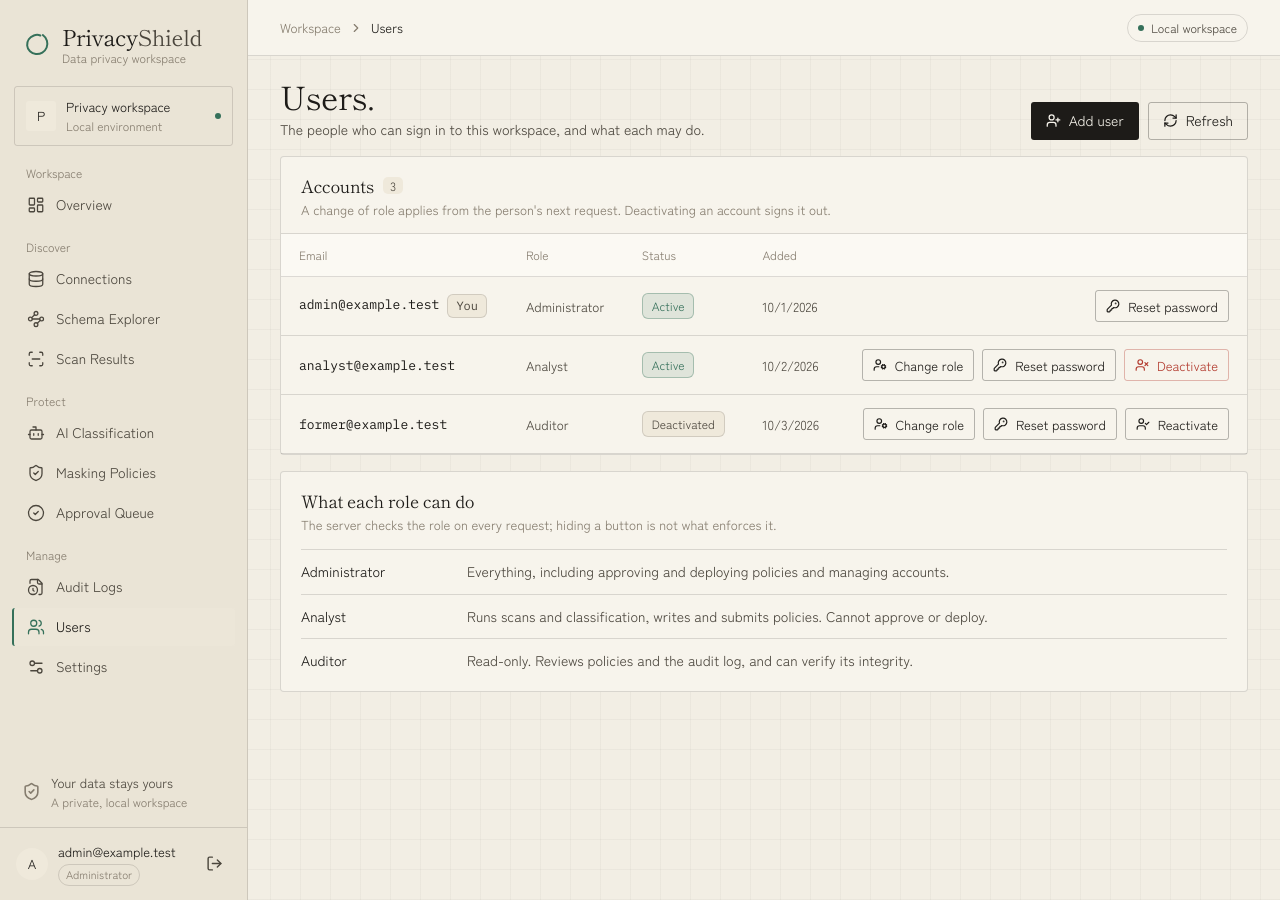
Test case: account management › changes a role, deactivates and reactivates with one request each
Click the button with aria-label "Change role of analyst@example.test": point(918, 365) [862,349,974,381]
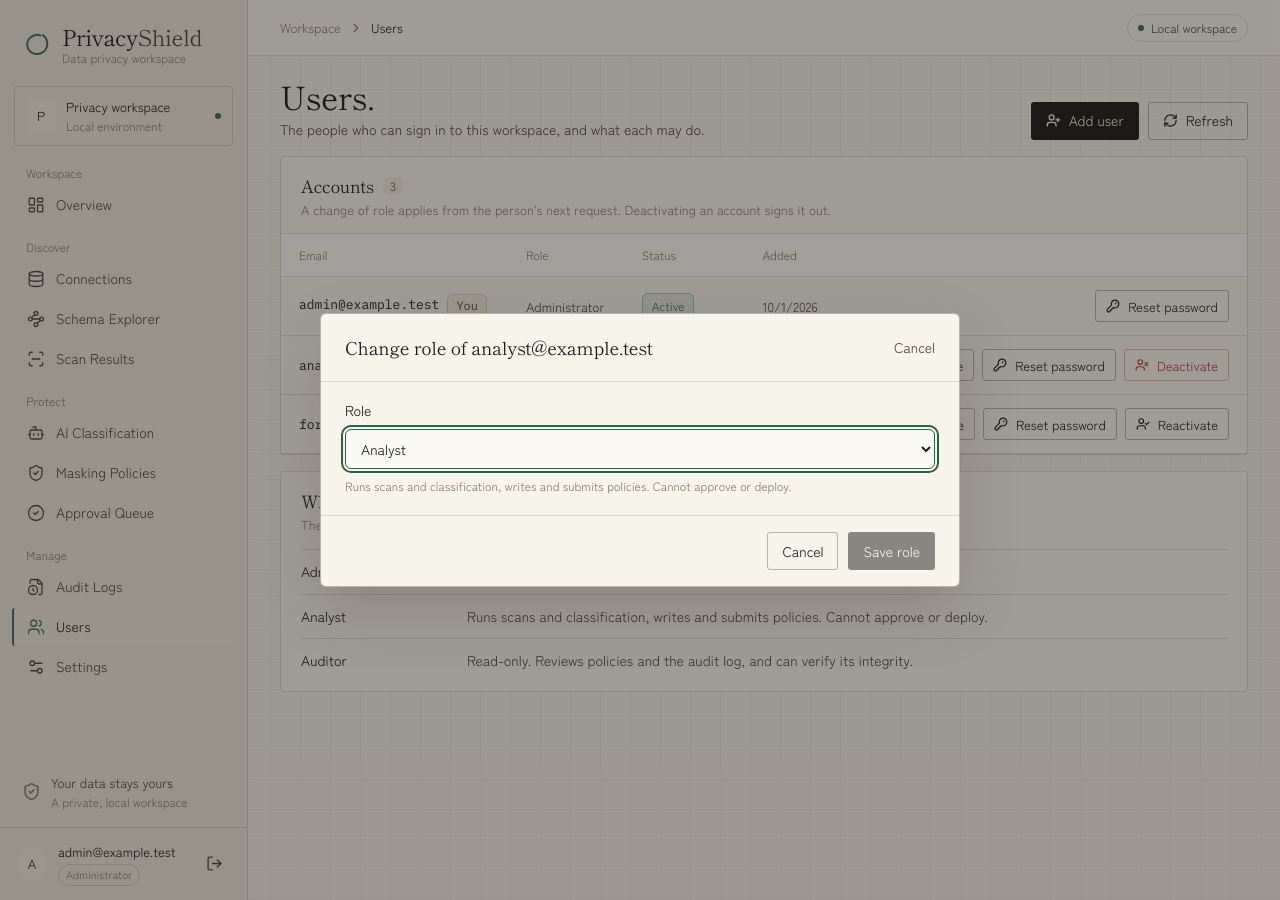
expect the dropdown labelled "Role" shows "Analyst": met
expect the button "Save role" is disabled: met, box [848,532,935,570]
Select "Administrator" in the dropdown labelled "Role": point(640, 449) [345,429,935,469]
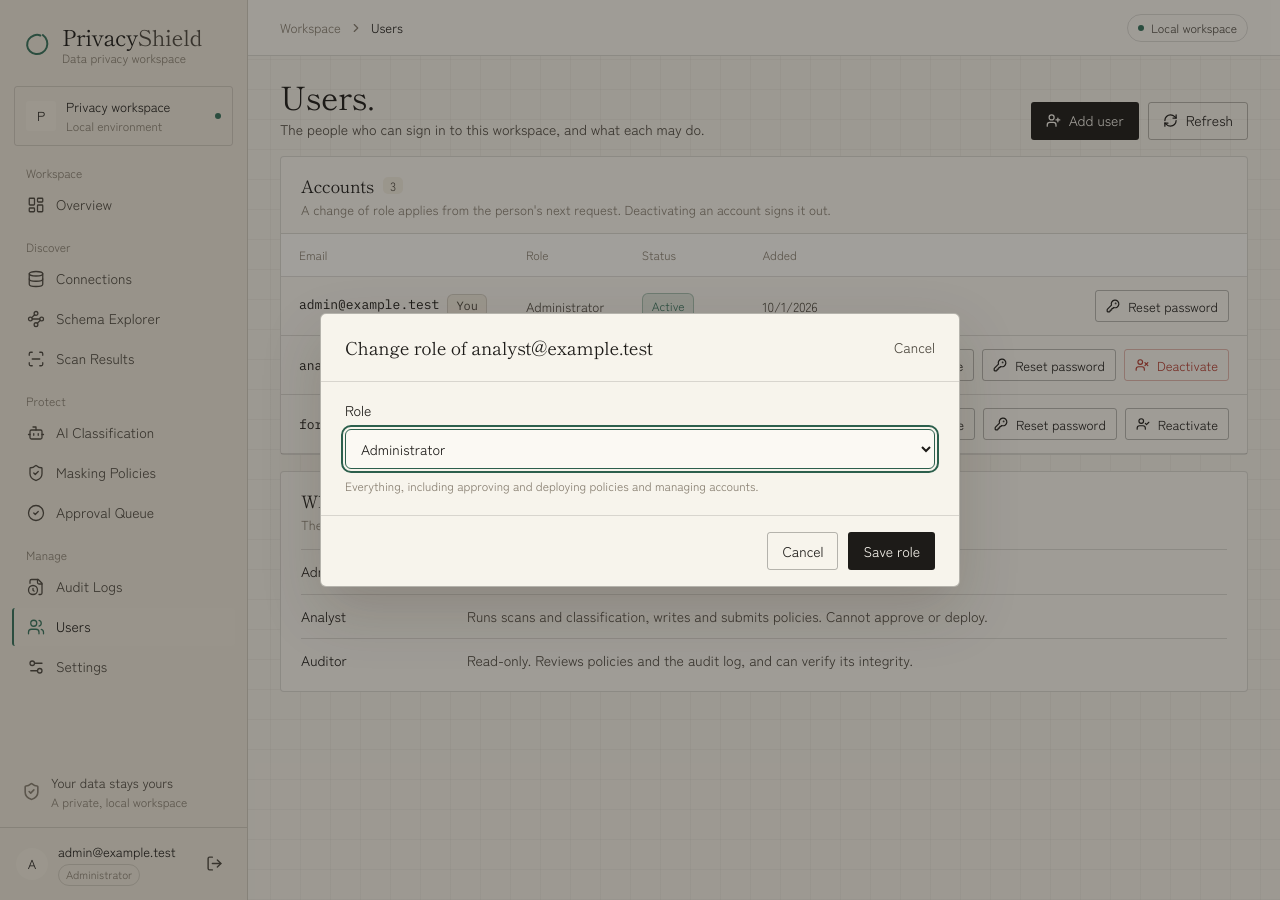
expect the text "managing accounts" is shown: met, box [345,477,758,494]
Select "Auditor" in the dropdown labelled "Role": point(640, 449) [345,429,935,469]
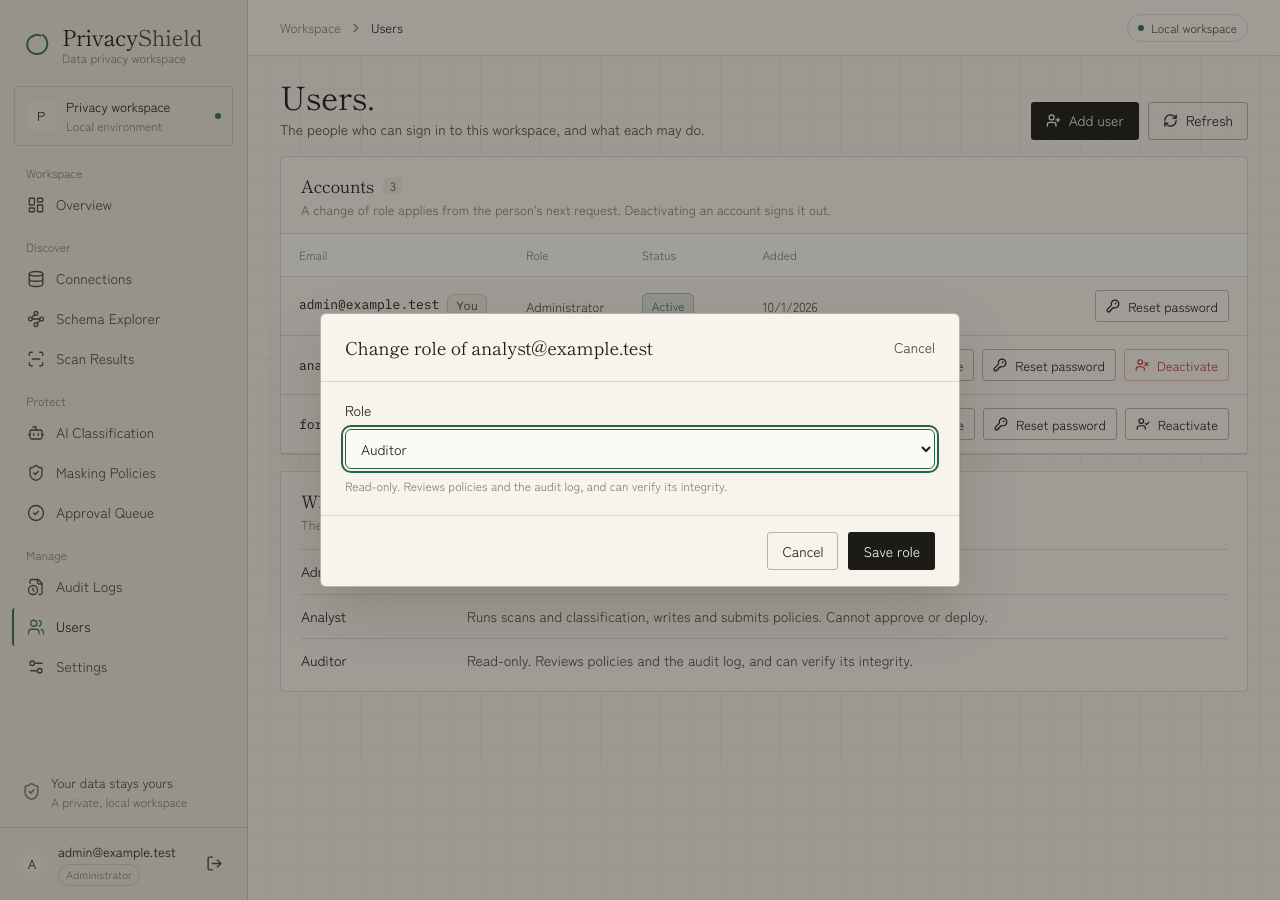
Click the button "Save role": point(892, 551) [848,532,935,570]
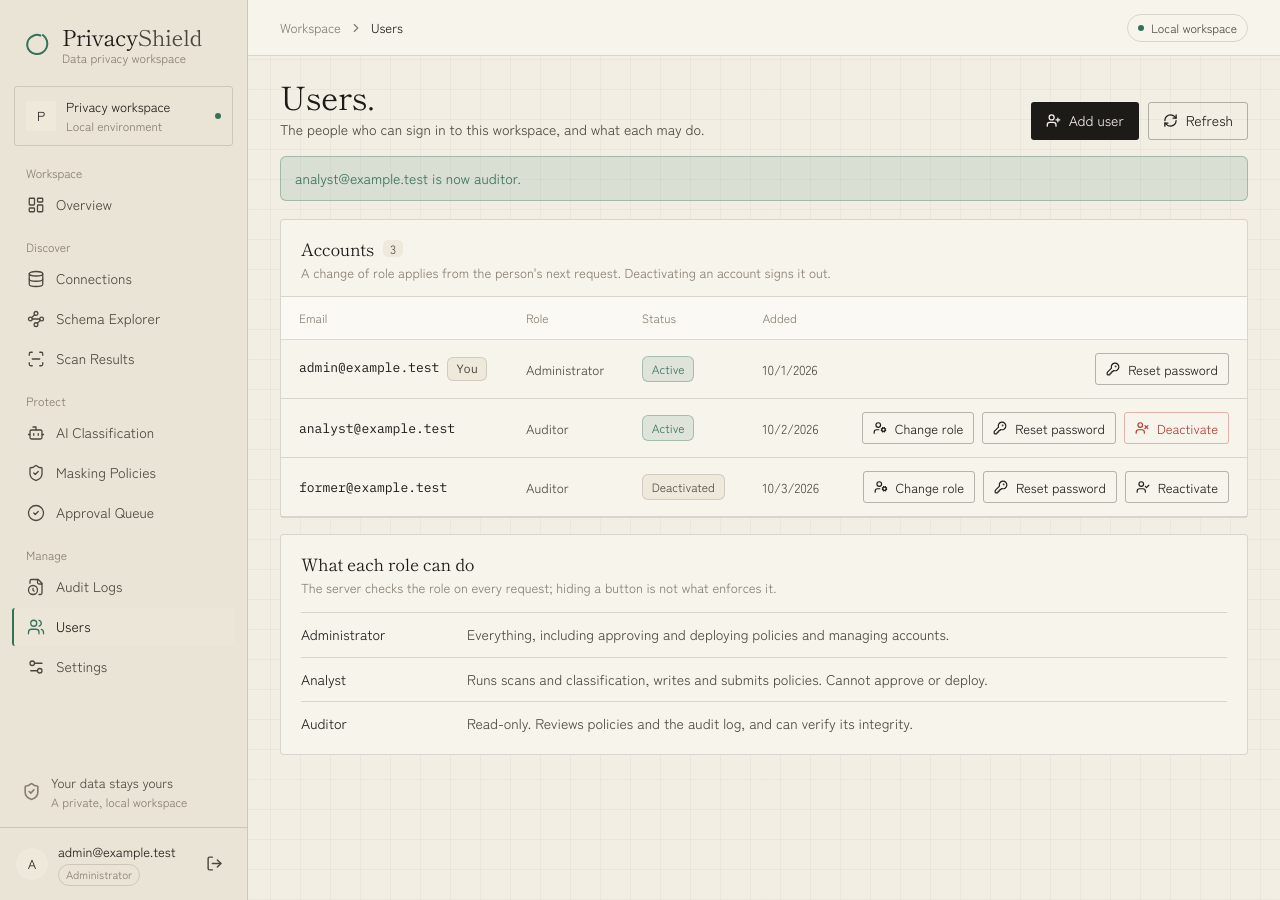
expect the message reads "analyst@example.test is now auditor.": met, box [295,168,521,188]
expect the text "Auditor" in the row of "10/2/2026" is shown: met, box [526,419,569,438]
Click the button with aria-label "Deactivate analyst@example.test": point(1176, 428) [1124,412,1229,444]
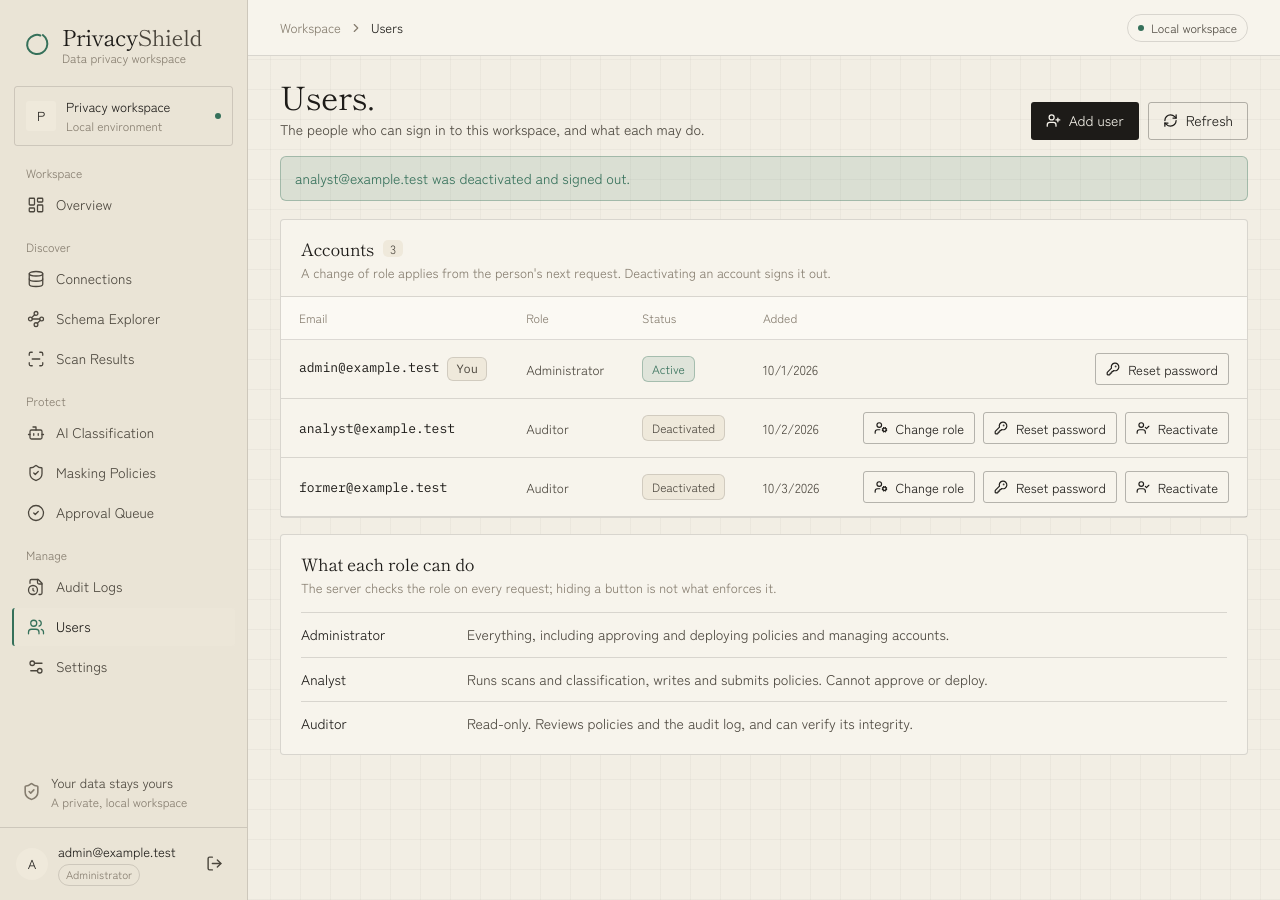
expect the message shows "was deactivated and signed out": met, box [295,168,630,188]
Click the button with aria-label "Reactivate analyst@example.test": point(1177, 428) [1125,412,1229,444]
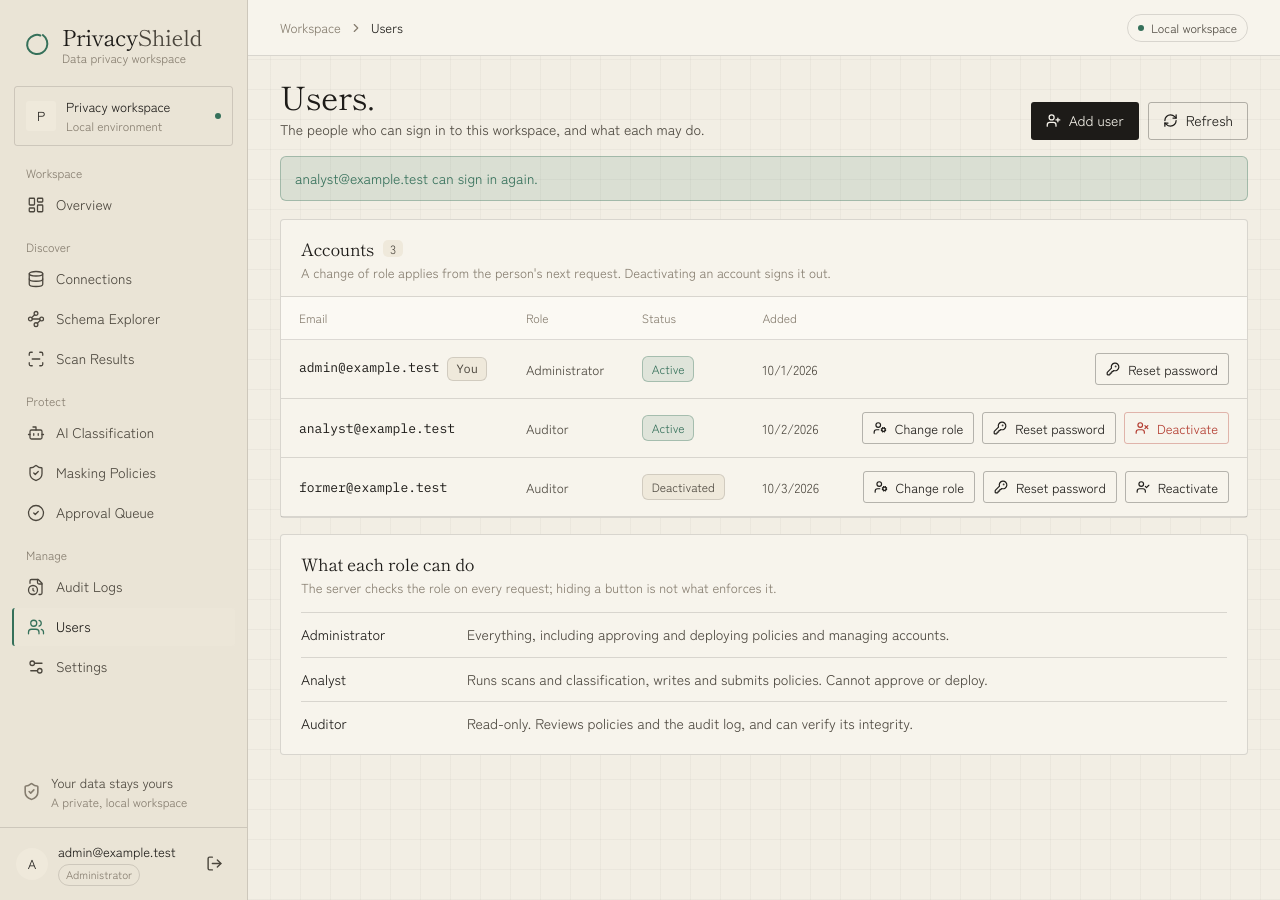
expect the message shows "can sign in again": met, box [295,168,538,188]
